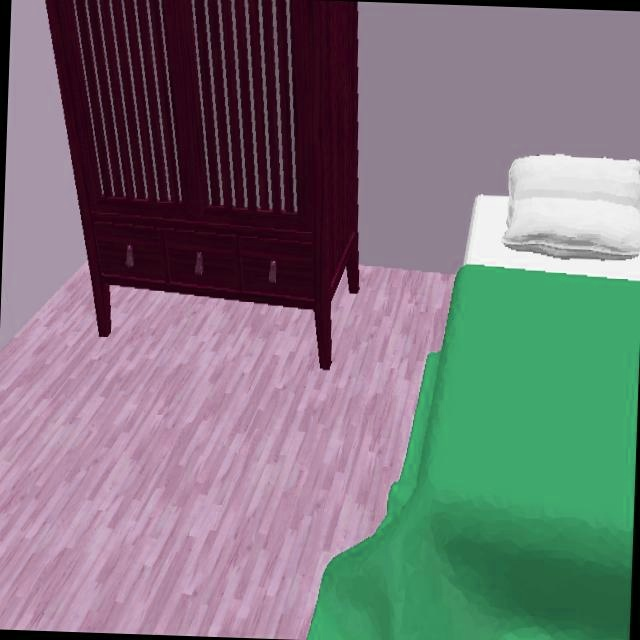bed: (304, 195, 640, 640)
pillow: (503, 154, 640, 267)
wardrobe: (45, 0, 359, 370)
